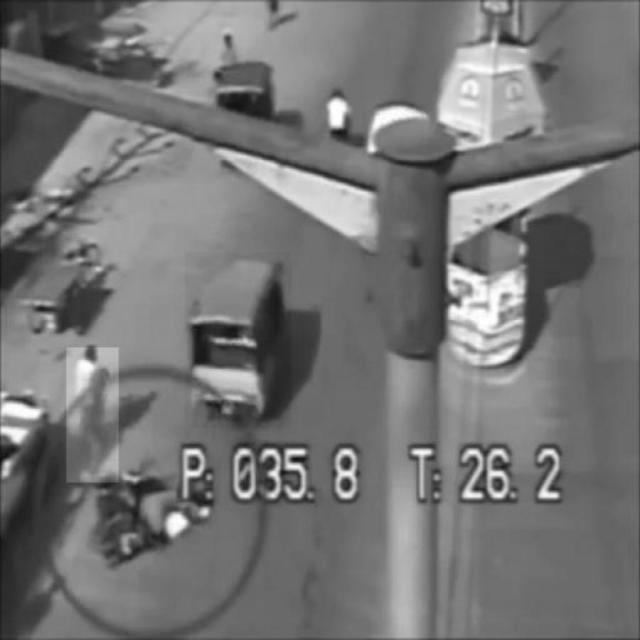vehicle: (185, 253, 291, 428), (93, 467, 214, 565), (67, 348, 119, 482)
